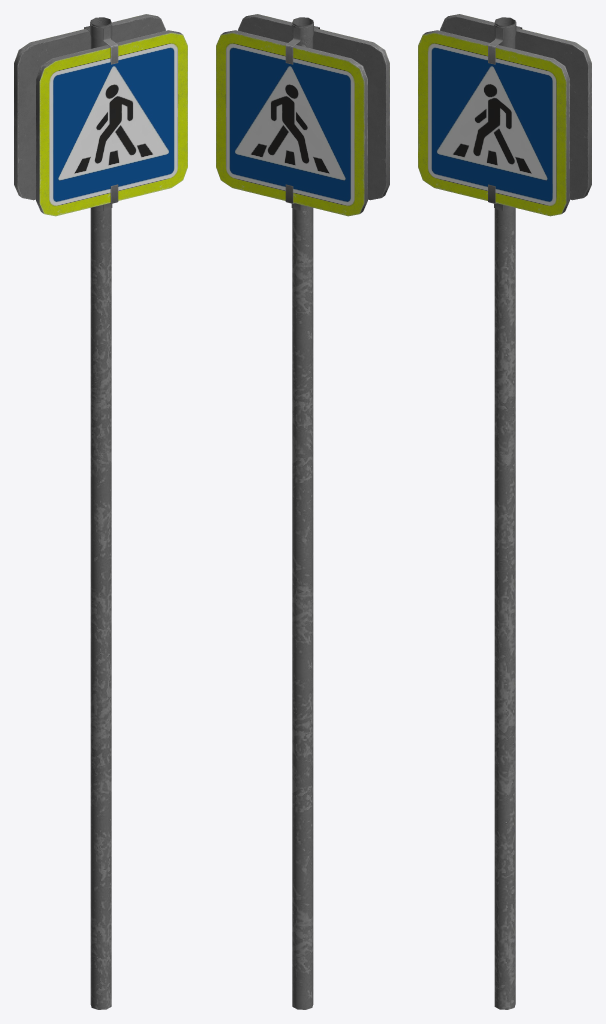
File: PedestrianCrossingSign.fbx
3 views of the same model, side by side, from view 1: azimuth 30°, elevation 25°; view 2: azimuth 150°, elevation 25°; view 3: azimuth 330°, elevation 25° (orthographic).
Parts seen in each view (by area): view 1: fascetta_03.005; view 2: fascetta_03.005; view 3: fascetta_03.005.
Part boxes in pixels (box(x1,y1,x2,y2)): fascetta_03.005: box(14, 14, 187, 1009); fascetta_03.005: box(216, 14, 389, 1009); fascetta_03.005: box(418, 14, 591, 1009).
Bounding box in the file's own units: 47.36 × 300 × 14.87.
